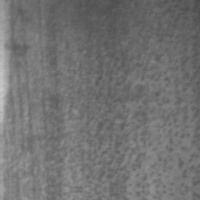pitted_surface: (54, 0, 199, 188)
